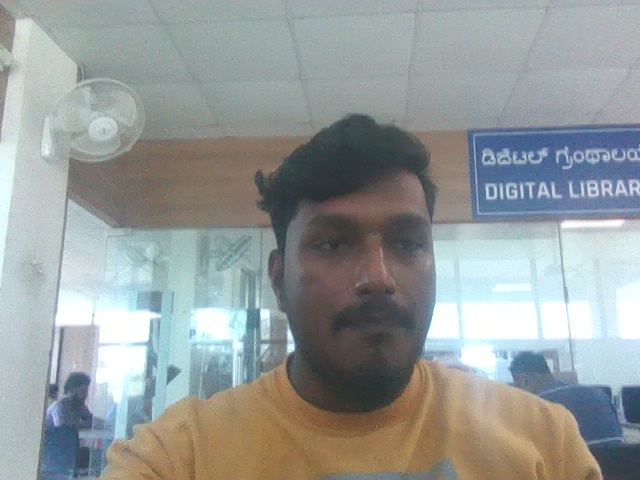real: (255, 95, 468, 397)
